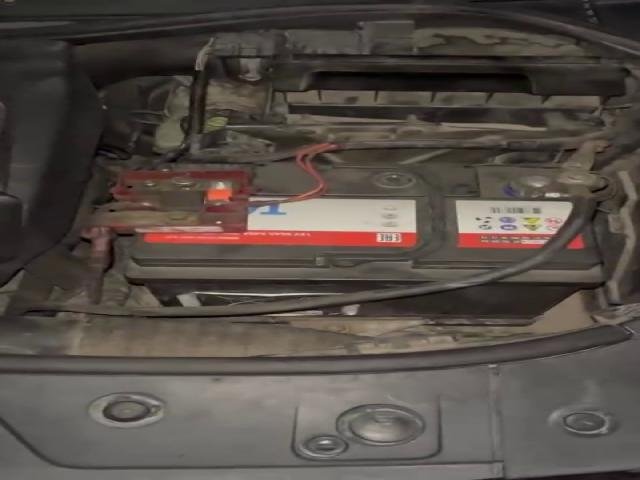accumulator: (80, 166, 603, 325)
